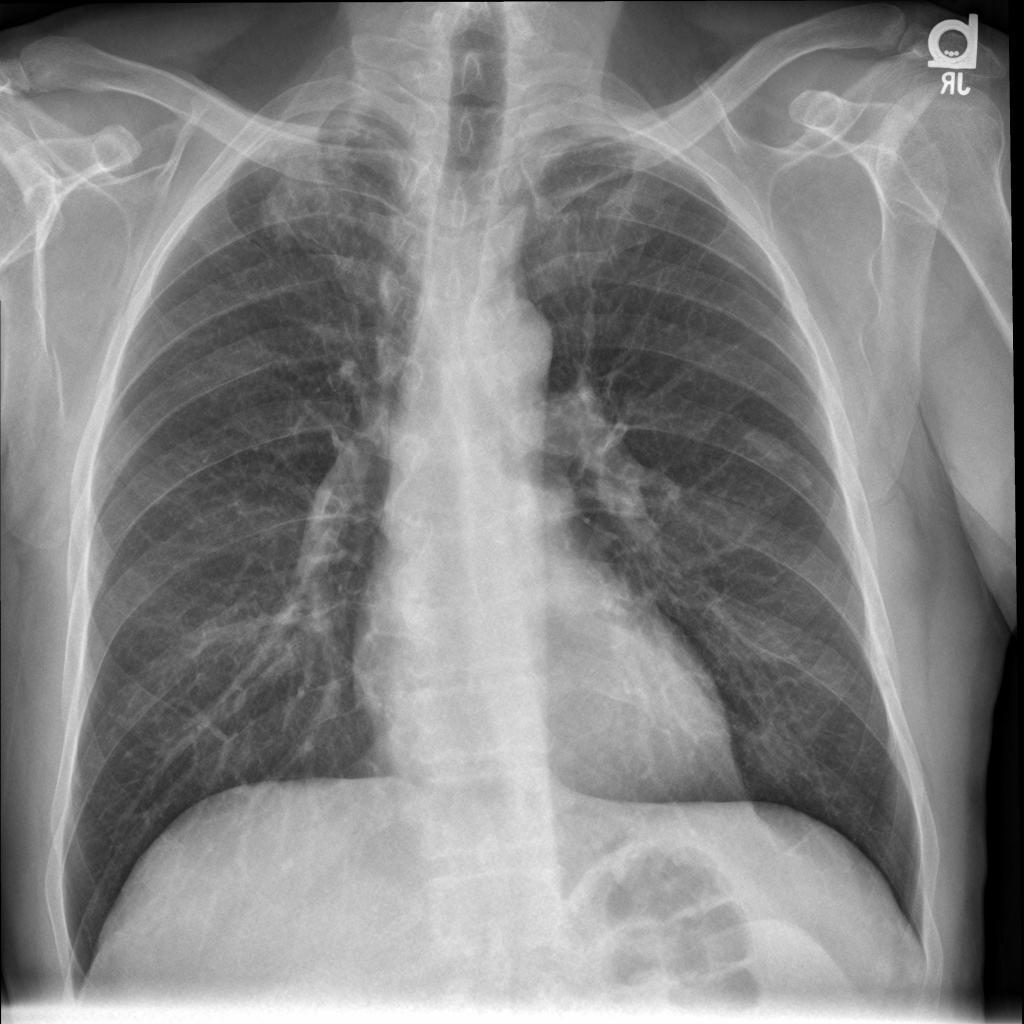Nodule: (103, 58, 122, 82)
